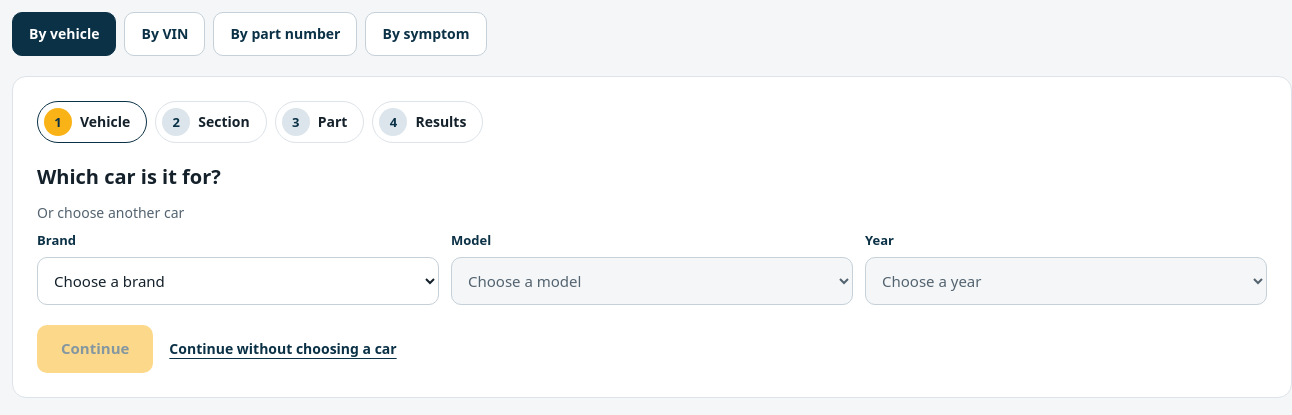
Test: the which-part wizard › Back goes to the previous step, and a section with no parts says so
This screenshot has width=1292, height=415.
What coordinates should you click on to do the following:
click the button "Continue without choosing a car"
I would click on:
 (283, 348)
Its box is [169,338,397,358].
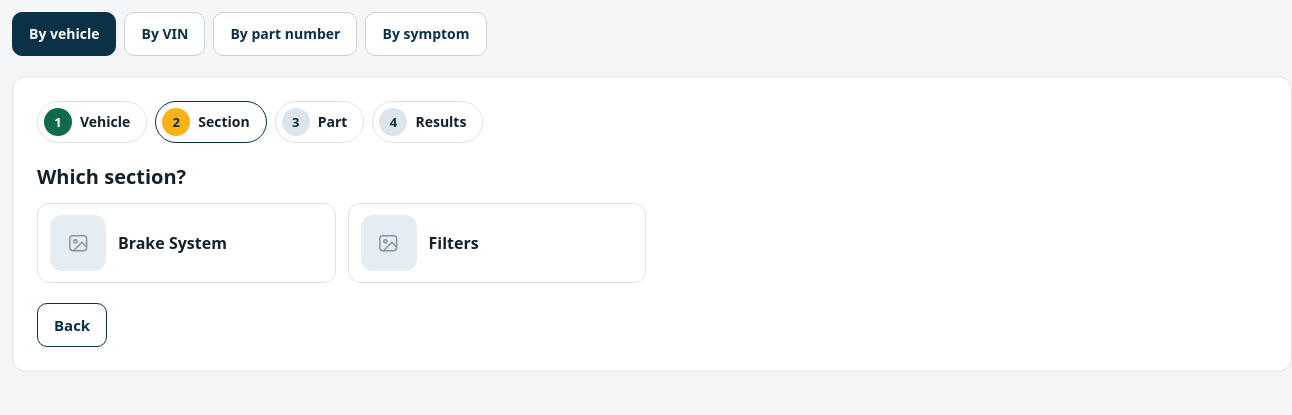
What coordinates should you click on to do the following:
click the button "Brake System"
I would click on:
 (186, 243)
Its box is [37,203,336,283].
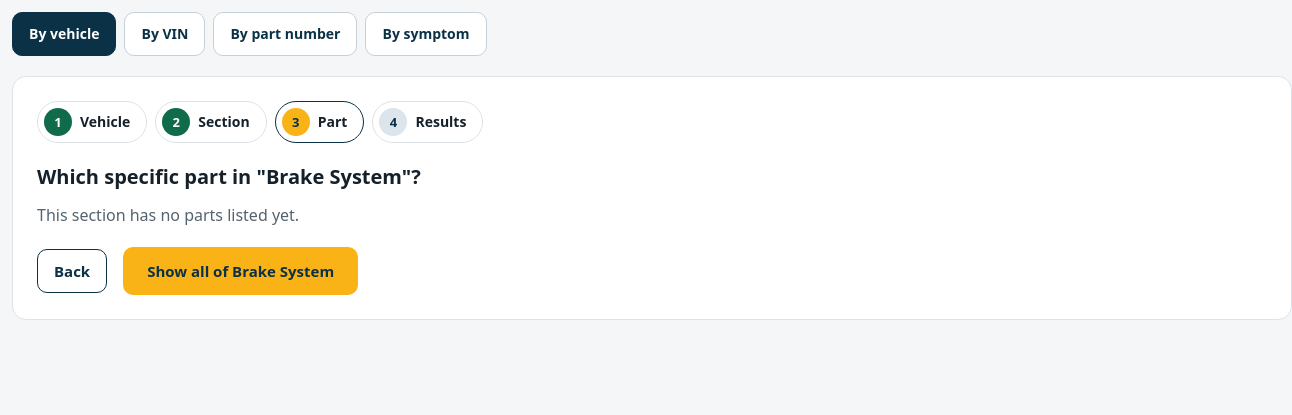
Result: the text "This section has no parts listed yet." is shown at [37,204,299,226]
What coordinates should you click on to do the following:
click the button "Back"
I would click on:
 (72, 271)
Its box is [37,249,107,293].
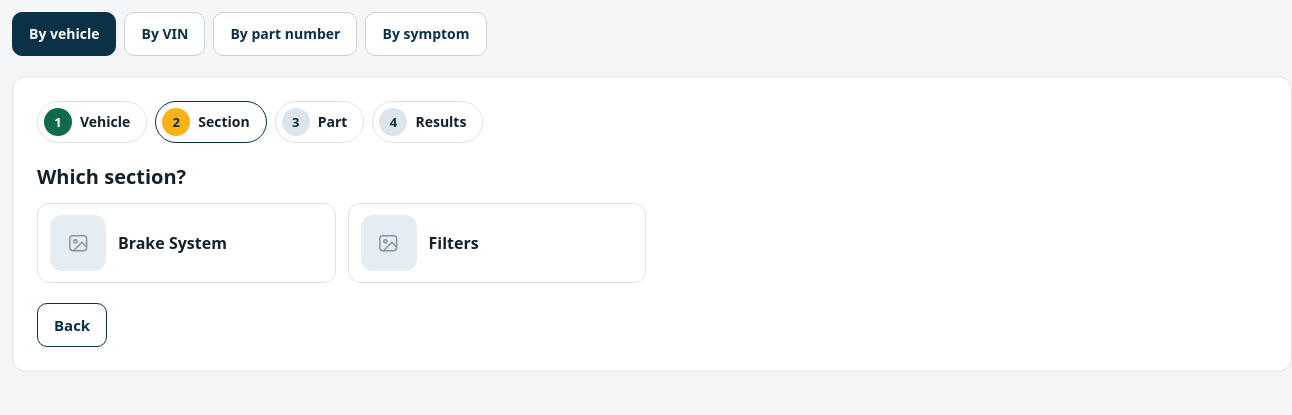
Result: the heading "Which section?" is shown at [37,163,186,190]
What coordinates should you click on to do the following:
click the button "Back"
I would click on:
 (72, 325)
Its box is [37,303,107,347].
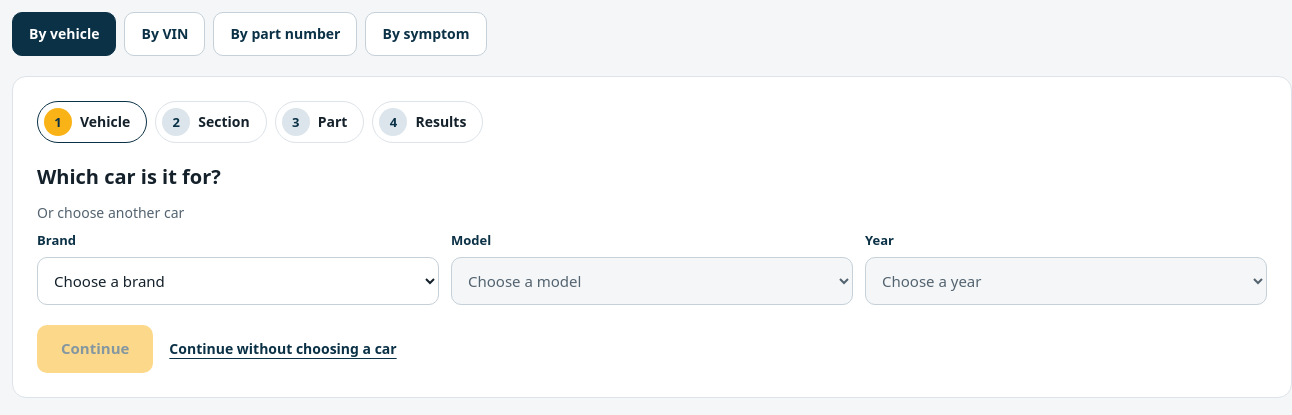
Result: the heading "Which car is it for?" is shown at [37,163,221,190]
